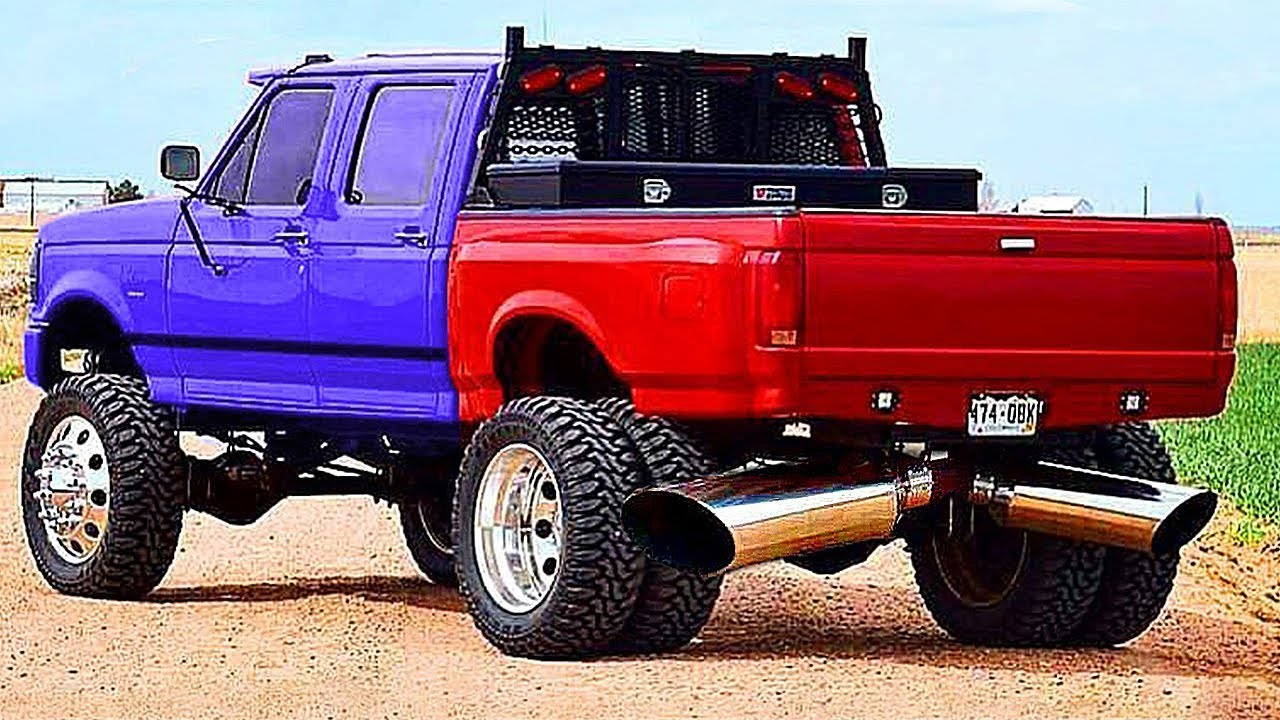truck: (65, 49, 1215, 591), (65, 49, 1215, 590)
